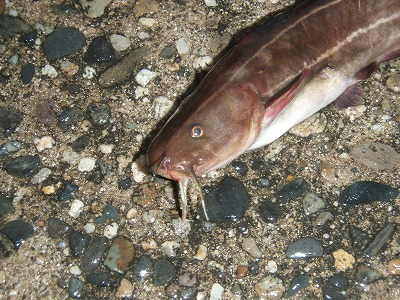gonzui: (129, 1, 394, 205)
